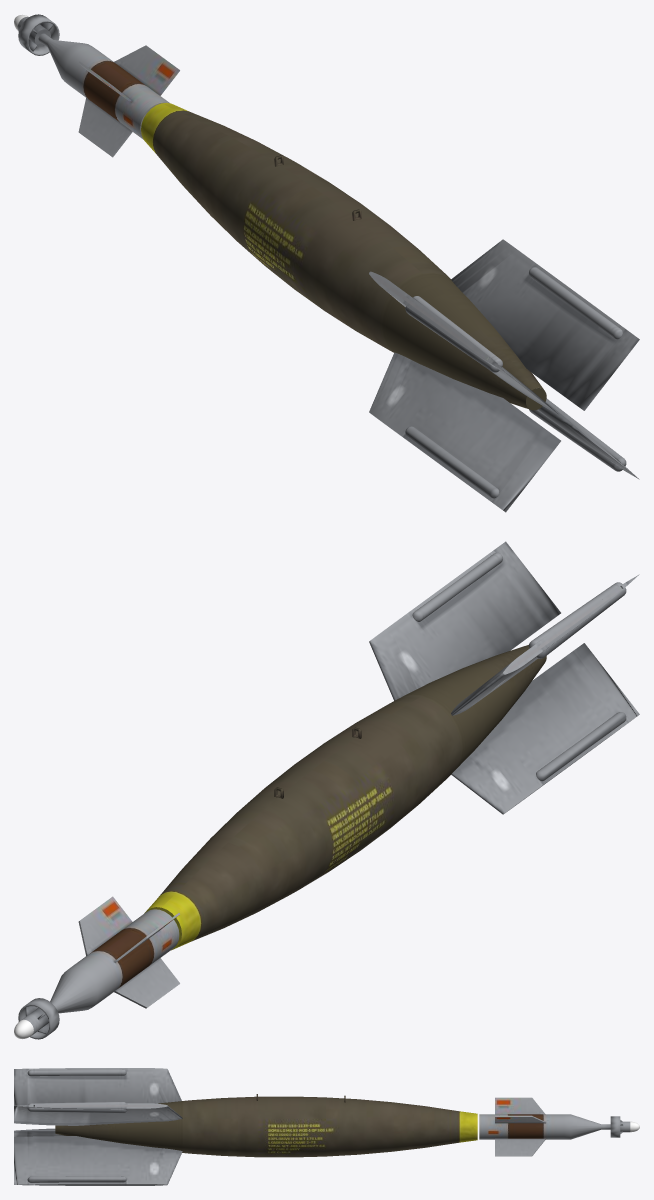
The picture shows the model from 3 angles, top to bottom: view 1: azimuth 30°, elevation 25°; view 2: azimuth 150°, elevation 25°; view 3: azimuth 270°, elevation 25°; orthographic projection. The views are drawn at different scales.
Parts seen in each view (by area): view 1: mk84lb_body; view 2: mk84lb_body; view 3: mk84lb_body.
Part boxes in pixels (x1,y1,x2,y2): mk84lb_body: (14, 14, 639, 512); mk84lb_body: (14, 541, 639, 1039); mk84lb_body: (14, 1068, 639, 1185).
Bounding box in the file's own units: 0.819 × 0.819 × 5.62.
Materials: 3 (3 with a texture image).
